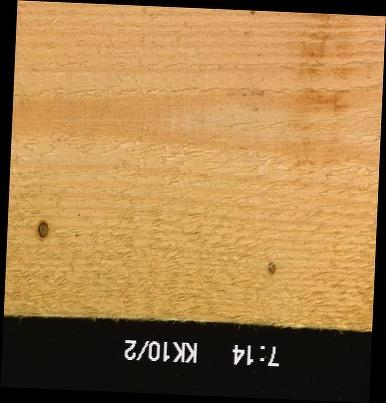dry_knot: (36, 219, 49, 239), (266, 261, 275, 275)
